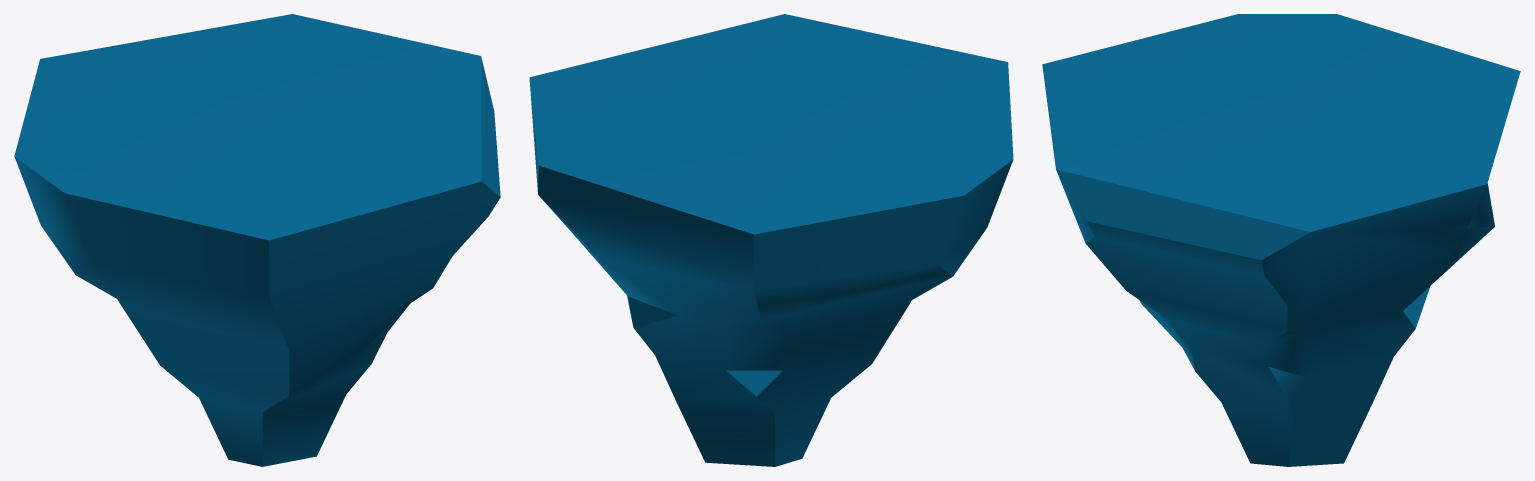
The model's file is Sky_Platform_3.fbx.
3 views of the same model, side by side, from view 1: azimuth 30°, elevation 25°; view 2: azimuth 150°, elevation 25°; view 3: azimuth 270°, elevation 25° (orthographic).
Visible parts, largest first — view 1: MESH_Sky_Platform_3; view 2: MESH_Sky_Platform_3; view 3: MESH_Sky_Platform_3.
Part boxes in pixels (<box>): MESH_Sky_Platform_3: <box>14,14,500,466</box>; MESH_Sky_Platform_3: <box>529,14,1013,466</box>; MESH_Sky_Platform_3: <box>1042,14,1520,466</box>.
Bounding box in the file's own units: 13.75 × 9.81 × 12.77.
